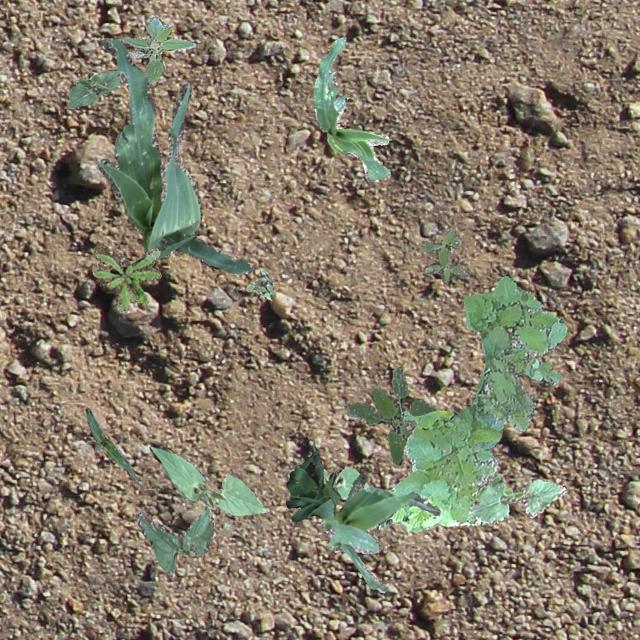crop: (96, 38, 252, 272), (320, 472, 440, 592), (312, 36, 388, 182), (148, 442, 264, 514), (136, 506, 212, 574), (466, 474, 564, 522), (284, 440, 340, 520), (85, 406, 136, 482), (68, 68, 120, 108), (322, 464, 372, 498)
weed: (374, 274, 566, 532), (344, 366, 436, 464), (122, 15, 194, 84), (91, 244, 160, 312), (418, 228, 468, 282), (244, 268, 274, 300)
